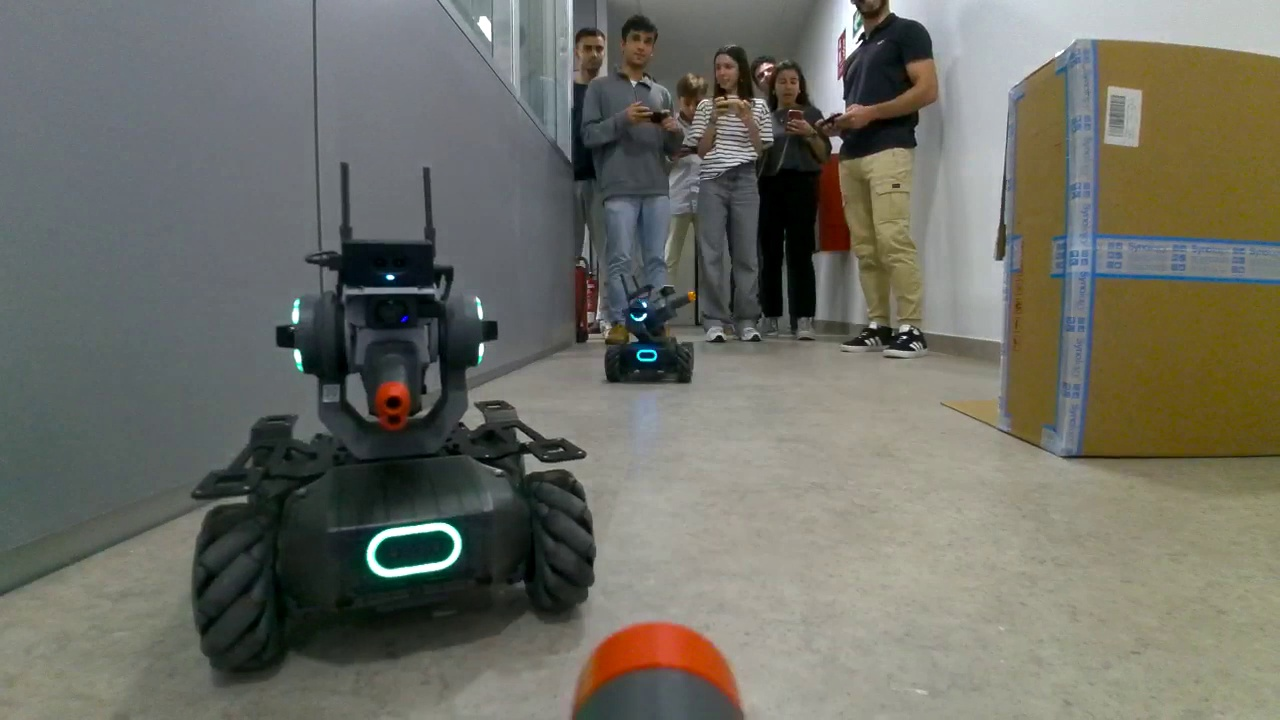robot: (190, 240, 600, 678), (604, 283, 698, 388)
